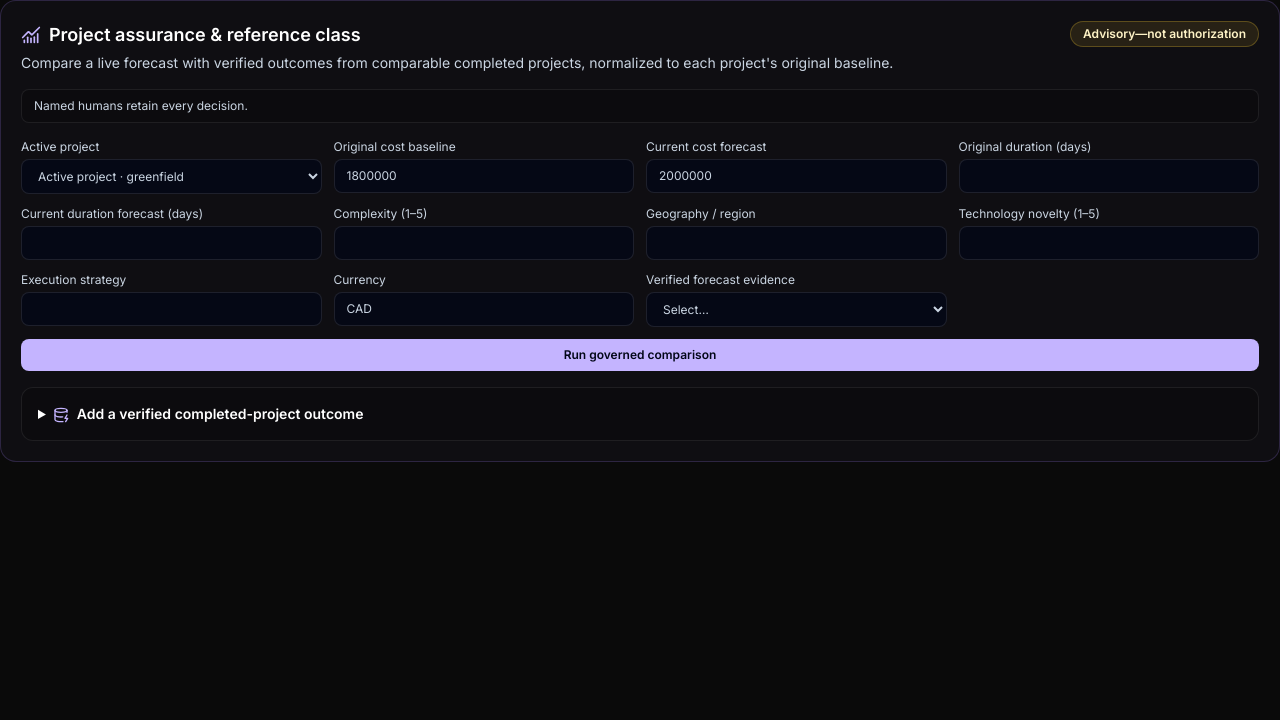
Test case: ProjectAssurancePanel › shows the advisory boundary and an explicit thin-history refusal
Earlier steps of the test are not shown.
Type "180" into the number field labelled "Original duration (days)" at [1109, 176], box x1=958 y1=159 x2=1259 y2=193
Type "200" into the number field labelled "Current duration forecast (days)" at [171, 243], box x1=21 y1=226 x2=322 y2=260
Type "3" into the number field labelled "Complexity (1–5)" at [484, 243], box x1=334 y1=226 x2=634 y2=260
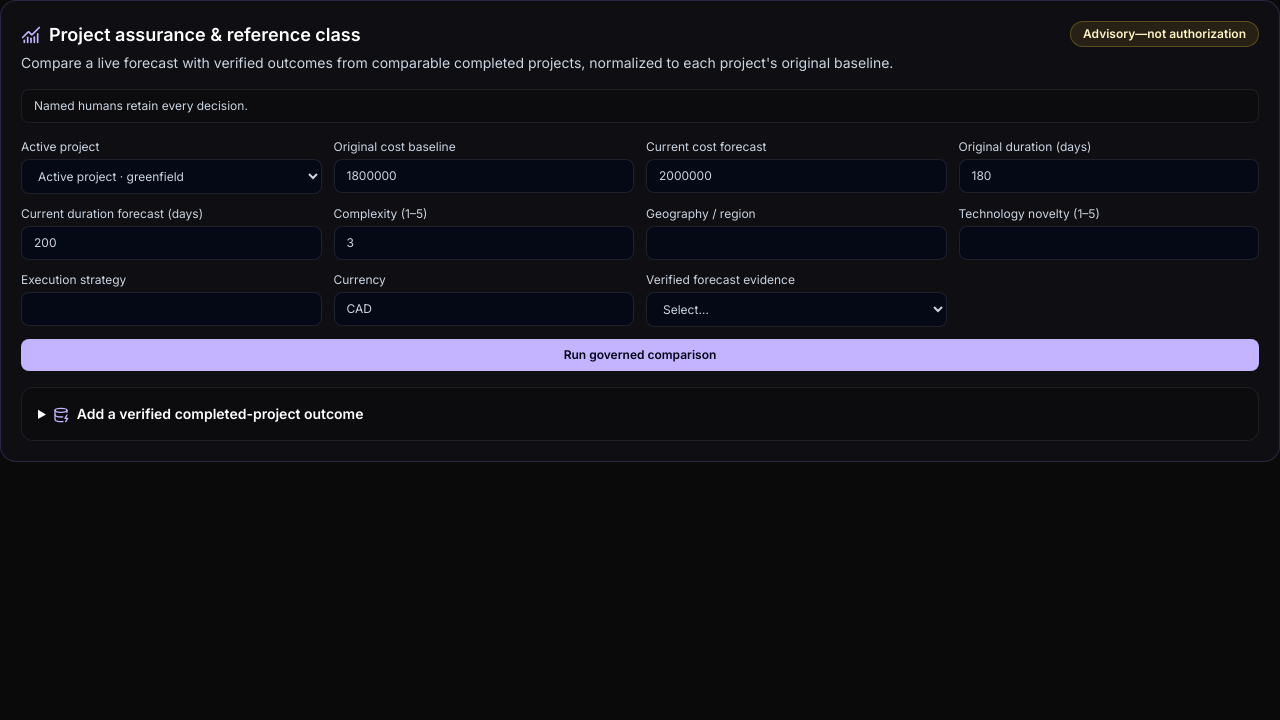
Type "Alberta" into the field labelled "Geography / region" at [796, 243], box x1=646 y1=226 x2=946 y2=260
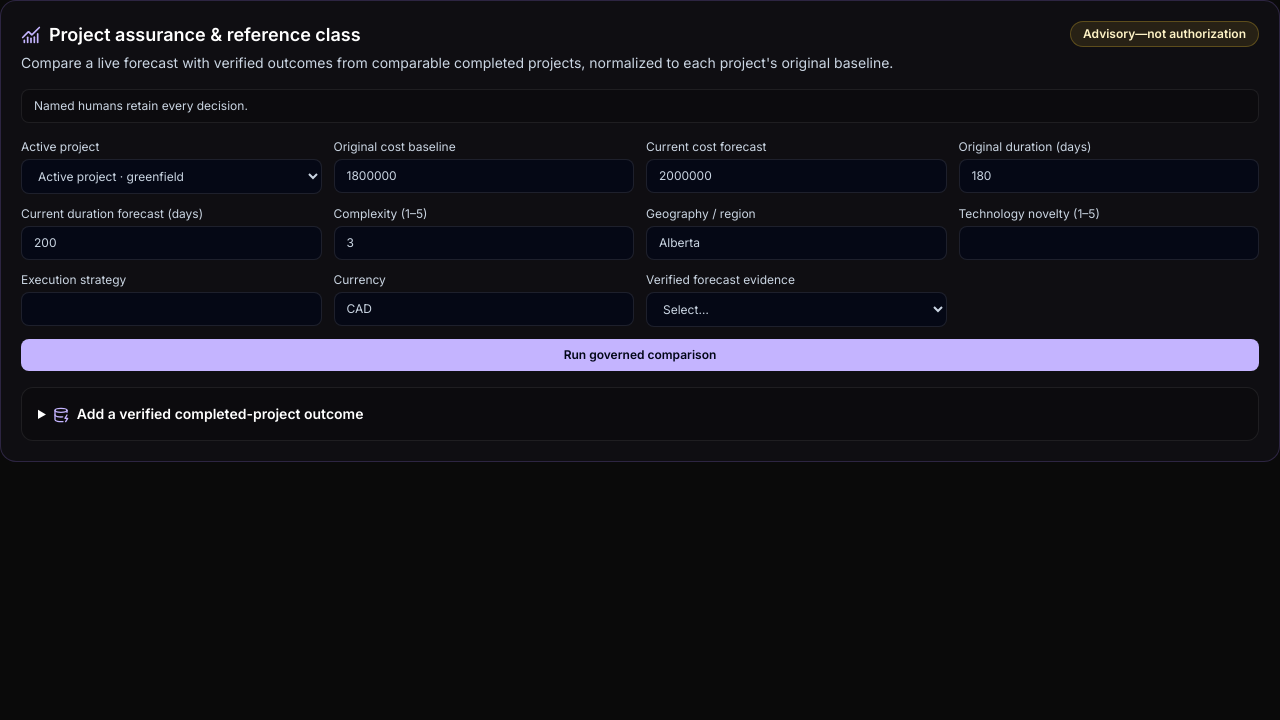
Type "2" into the number field labelled "Technology novelty (1–5)" at [1109, 243], box x1=958 y1=226 x2=1259 y2=260
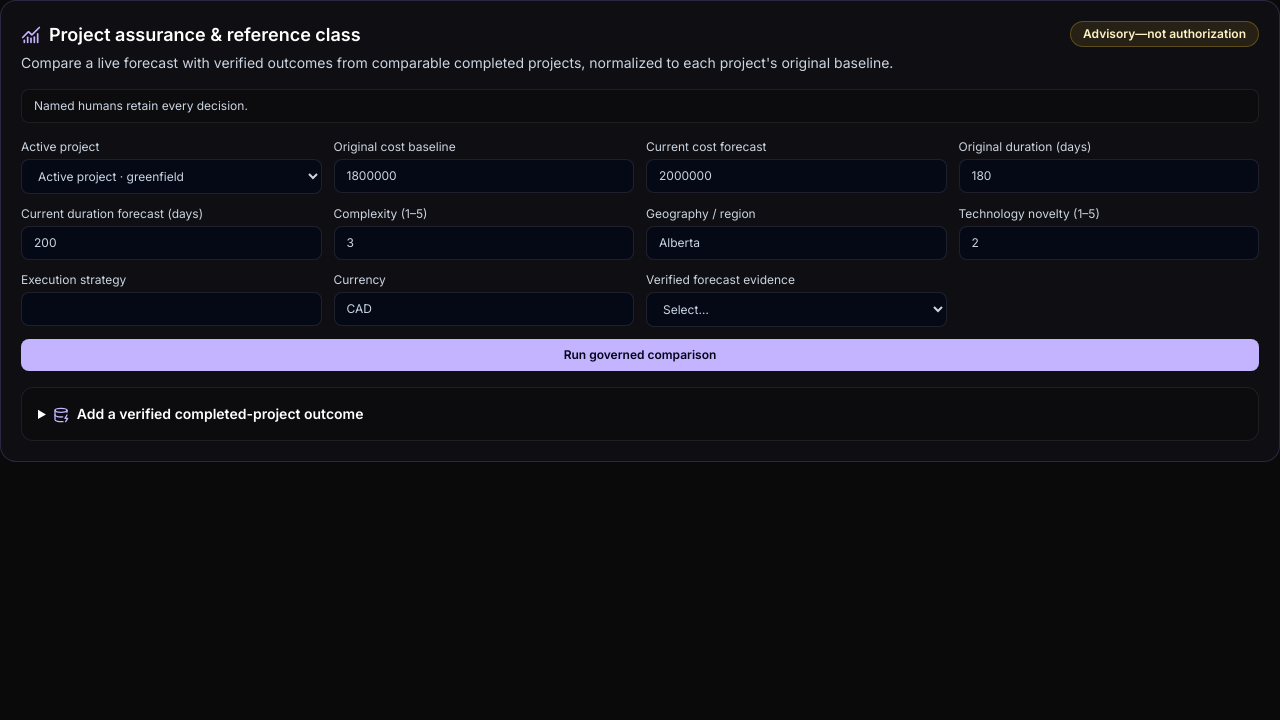
Type "EPCM" into the field labelled "Execution strategy" at [171, 309], box x1=21 y1=292 x2=322 y2=326
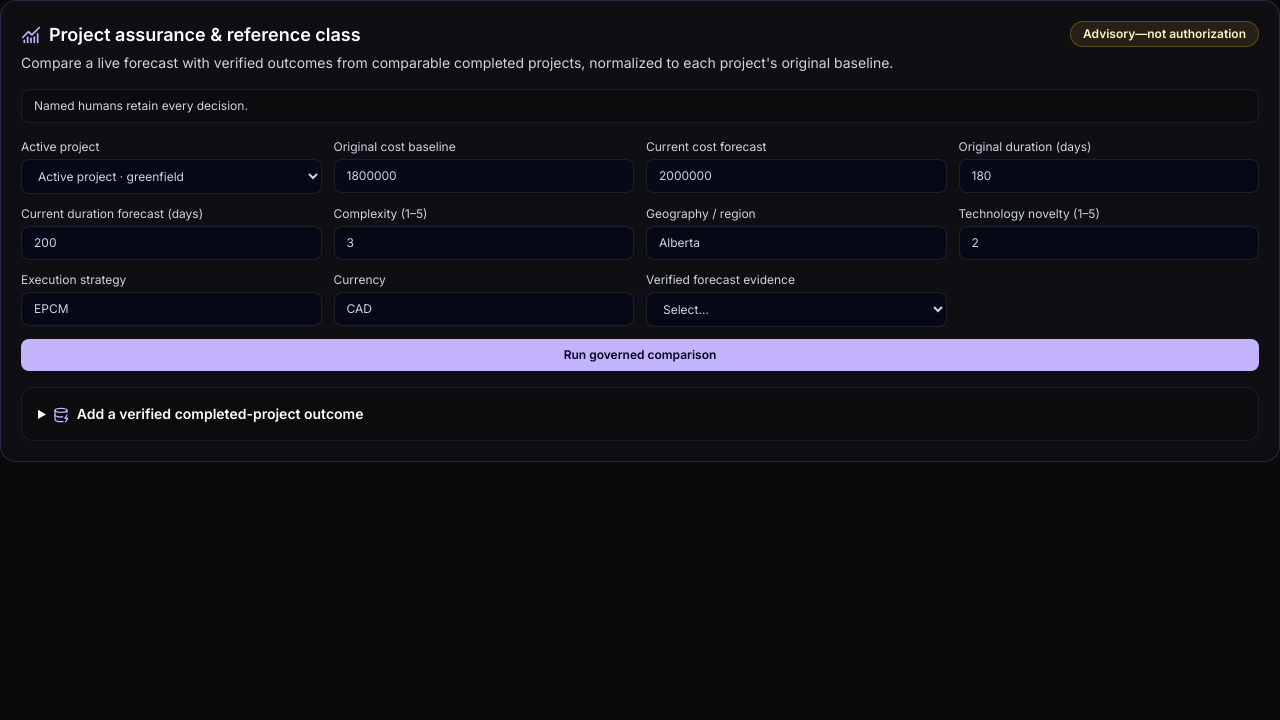
Select "Verified forecast basis" in the dropdown labelled "Verified forecast evidence" at [796, 310], box x1=646 y1=292 x2=946 y2=327
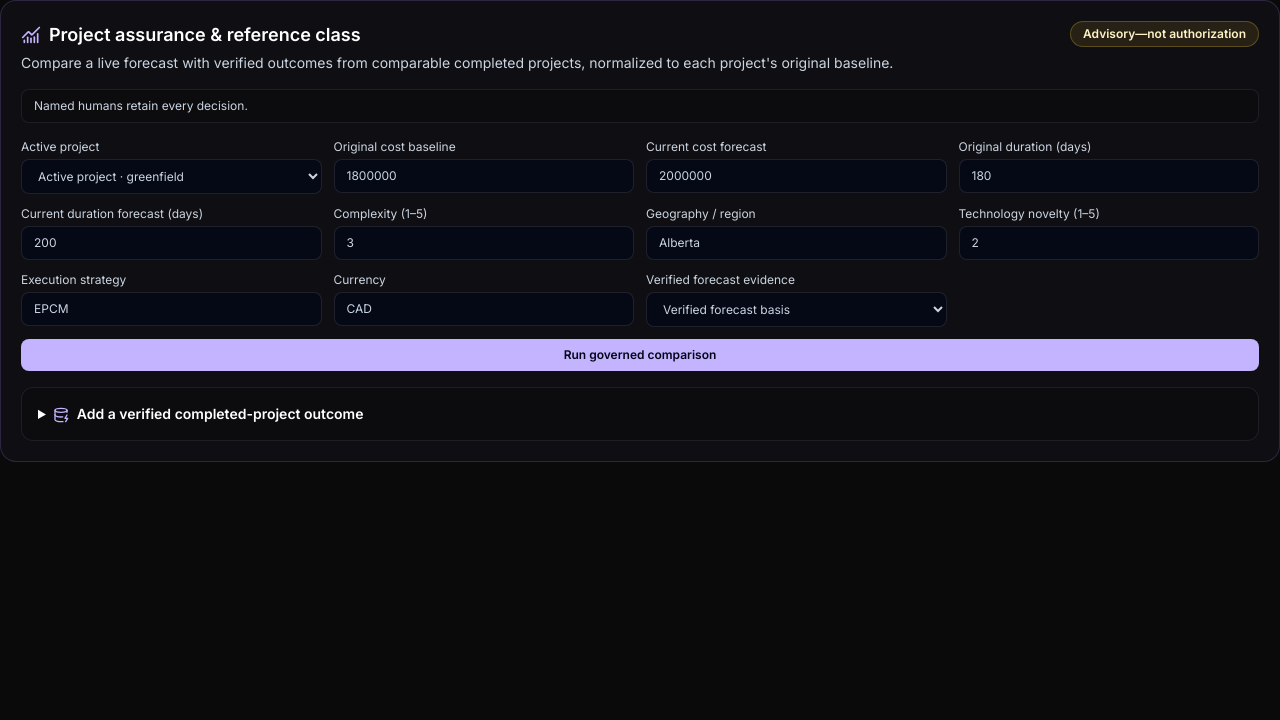
Click the button "Run governed comparison" at [640, 355], box x1=21 y1=339 x2=1259 y2=371
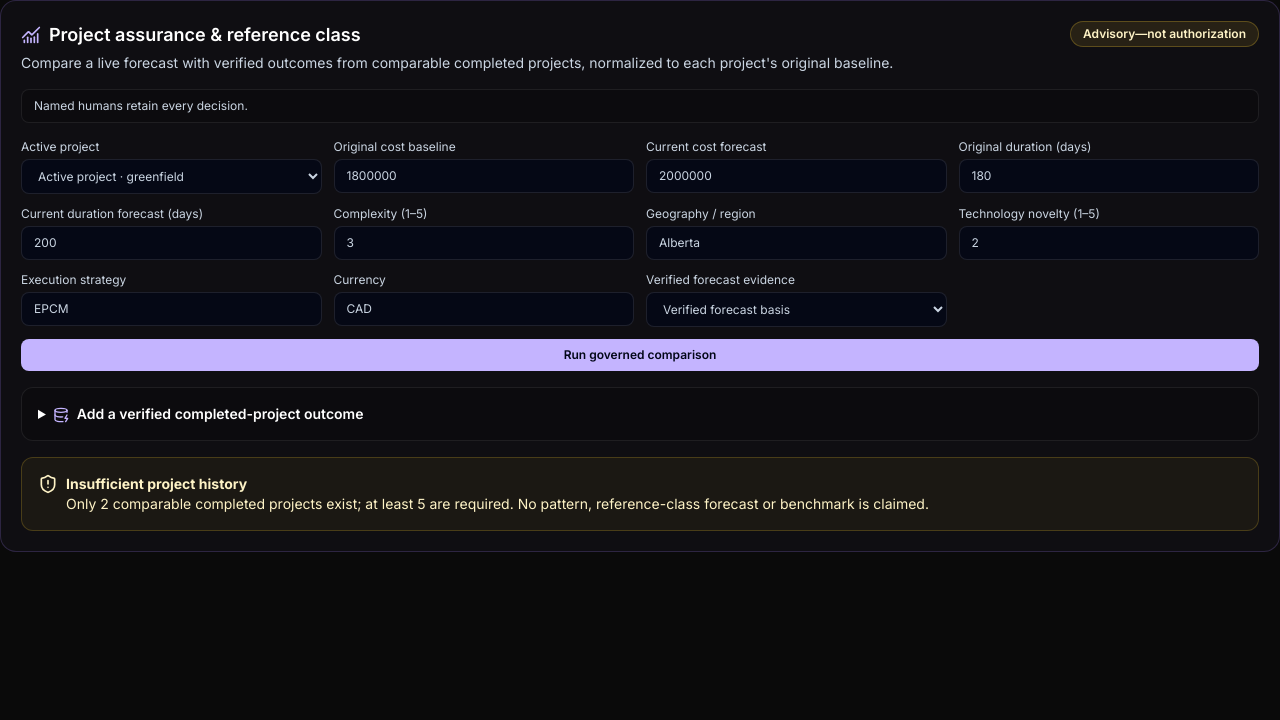
Now the text "Insufficient project history" is shown, box x1=66 y1=475 x2=247 y2=492
Now the text "No pattern, reference-class forecast or benchmark" is shown, box x1=66 y1=495 x2=929 y2=512
